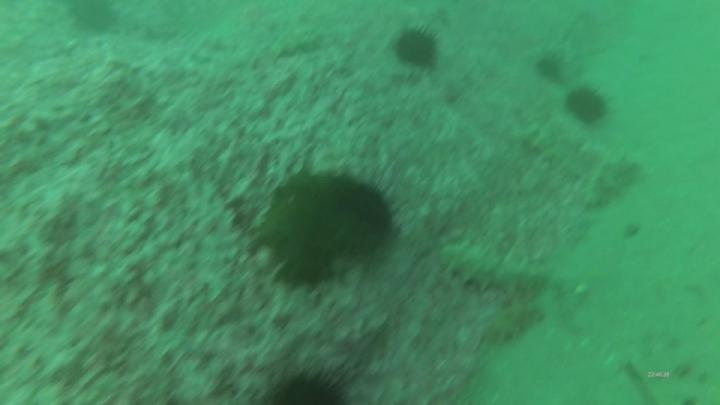echinus: (264, 170, 394, 291), (259, 369, 356, 405), (387, 24, 443, 72), (63, 1, 124, 37), (564, 85, 609, 128), (533, 54, 566, 84)
holothurian: (440, 239, 554, 306), (515, 123, 597, 189), (582, 154, 638, 214), (481, 303, 544, 350)
